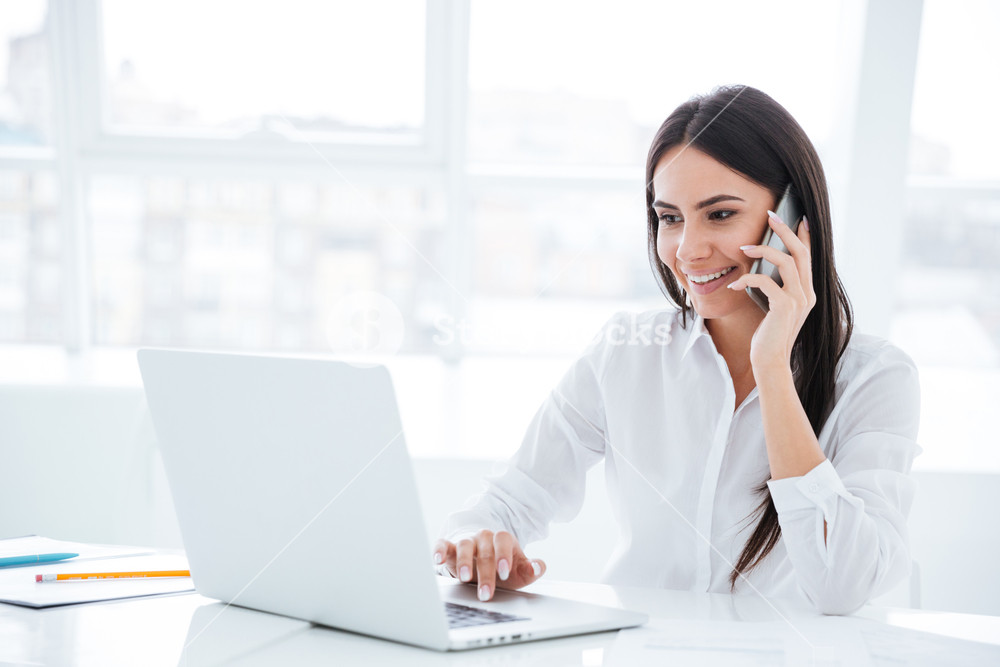phone: (732, 202, 820, 314)
talk: (657, 178, 832, 342)
